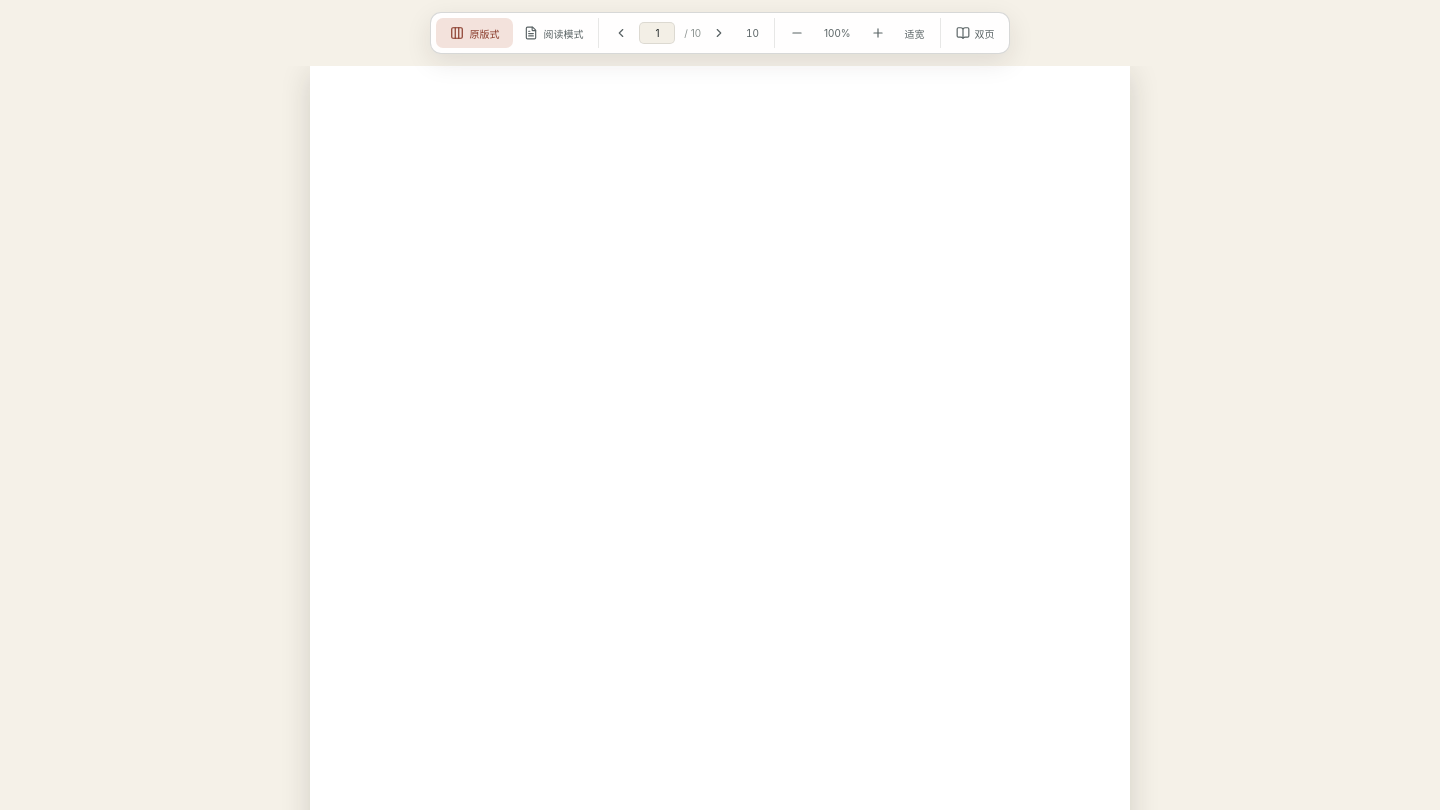
Test case: PDF spread mode (plan-pdf-spread) › reports the right-hand page of a spread for TOC follow
Click the button "双页" at (975, 33), box [946,18,1004,48]
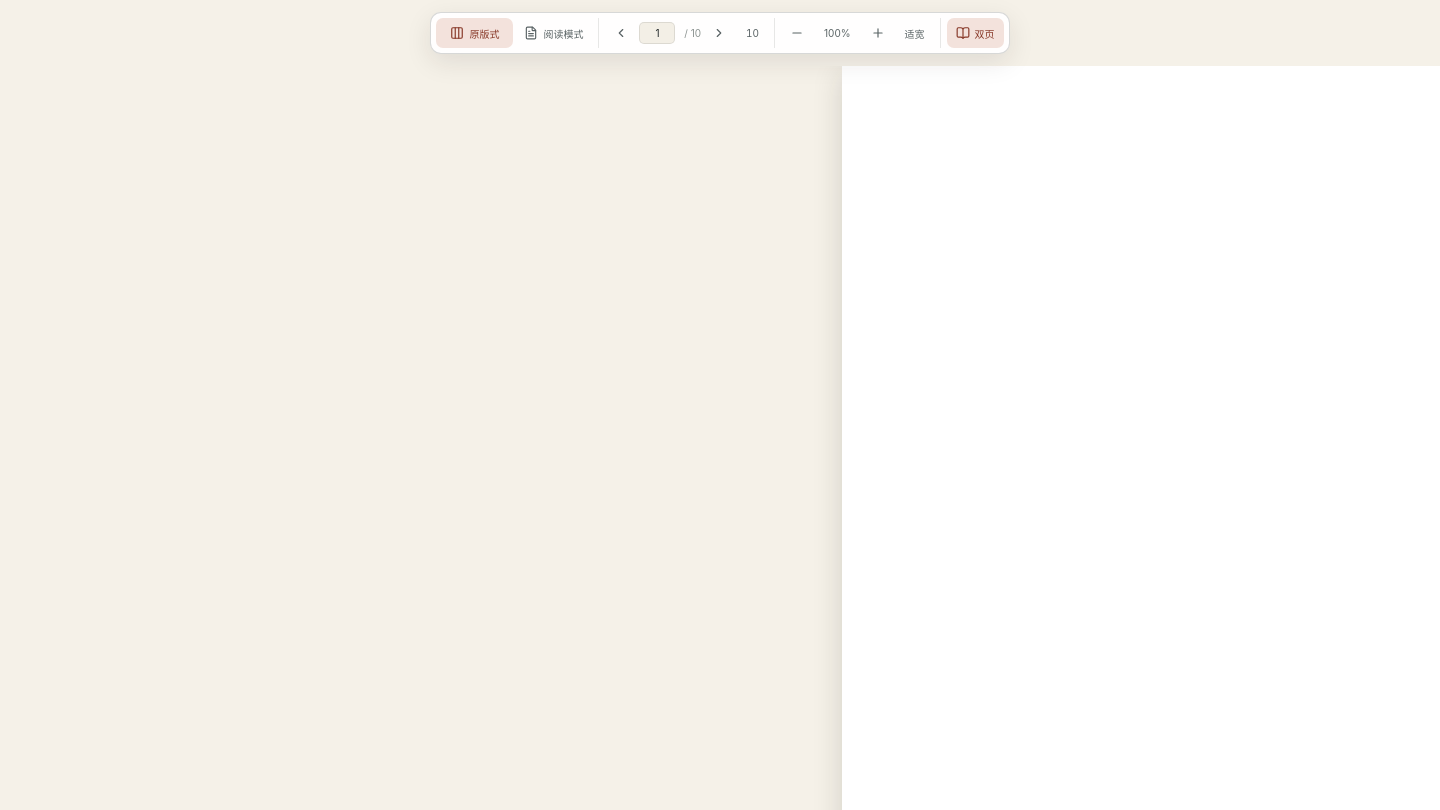
Click the button named "下一页" at (719, 33), box [703,18,735,48]
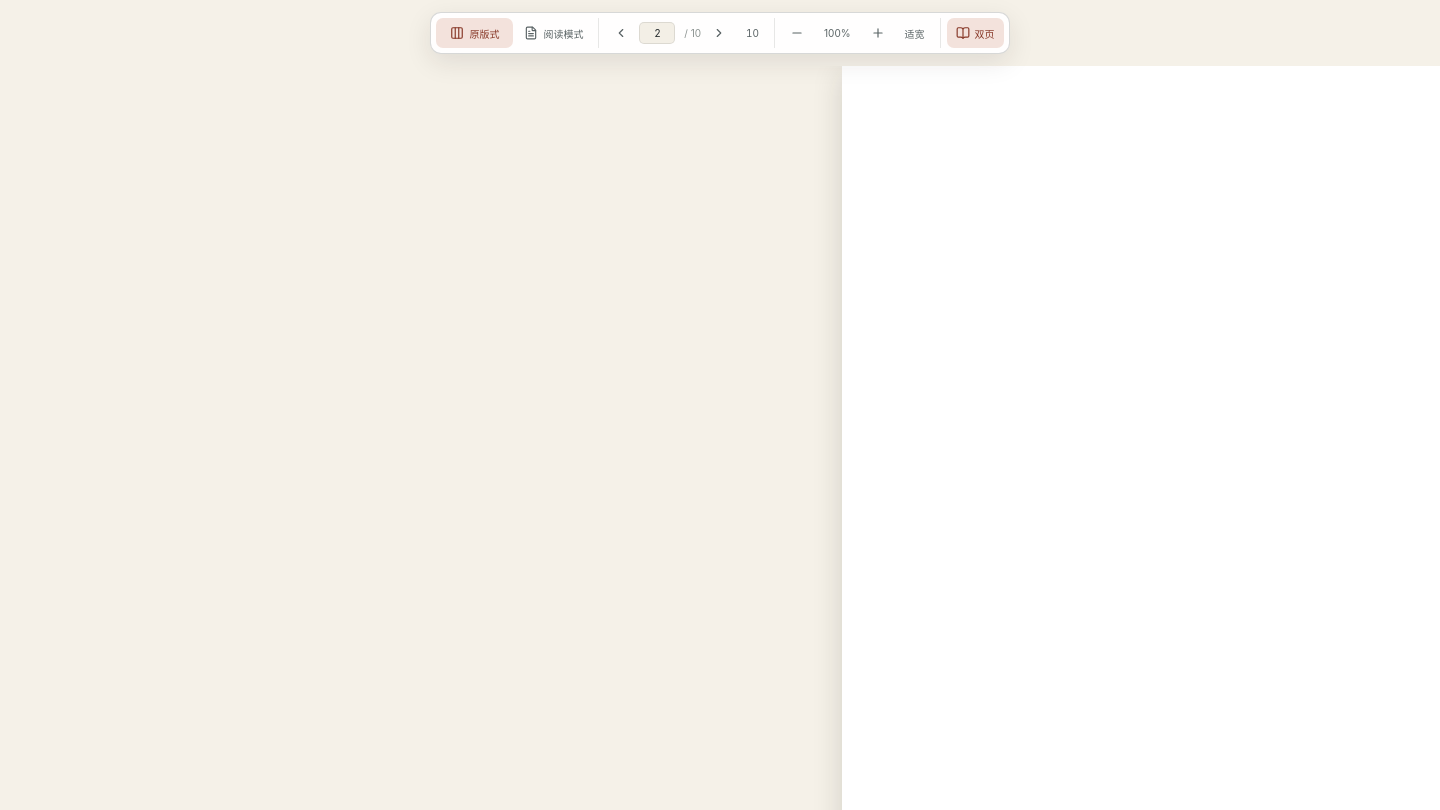
Expected: the field named "当前页" holds "2", [639,22,675,44]
